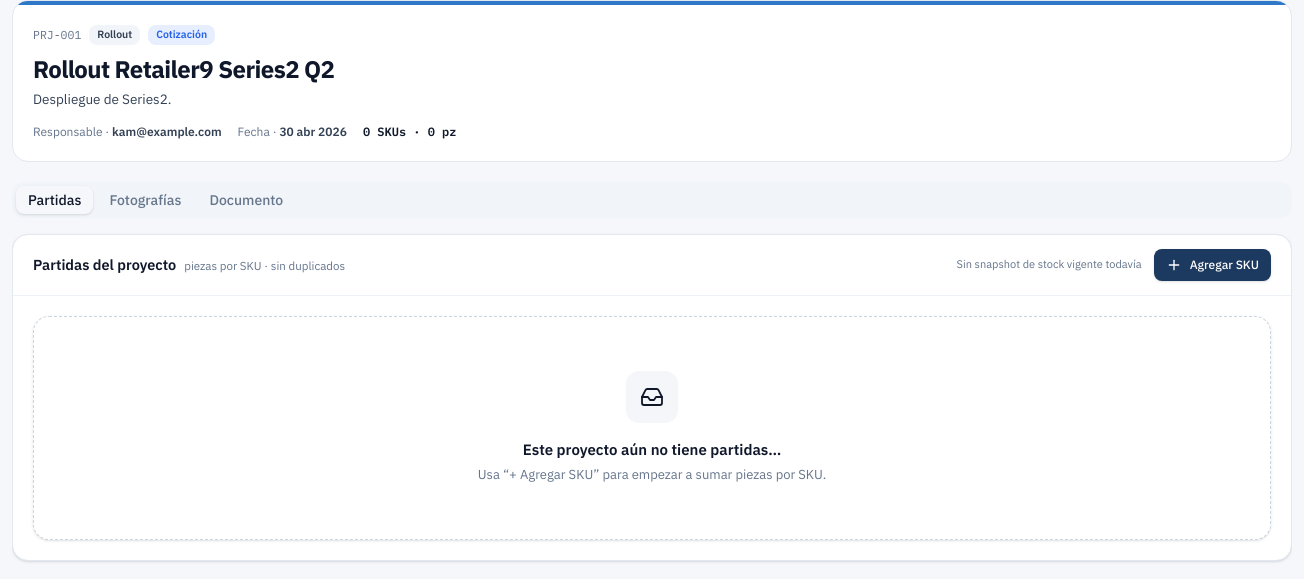
Test: los barridos de a11y también sobre los otros TRES estados del panel de Documento › con `EstadoError` (el fetch del documento falló en la primera carga)
Press the mouse on the tab "Documento": (246, 200) top-left (197, 186), bottom-right (295, 214)
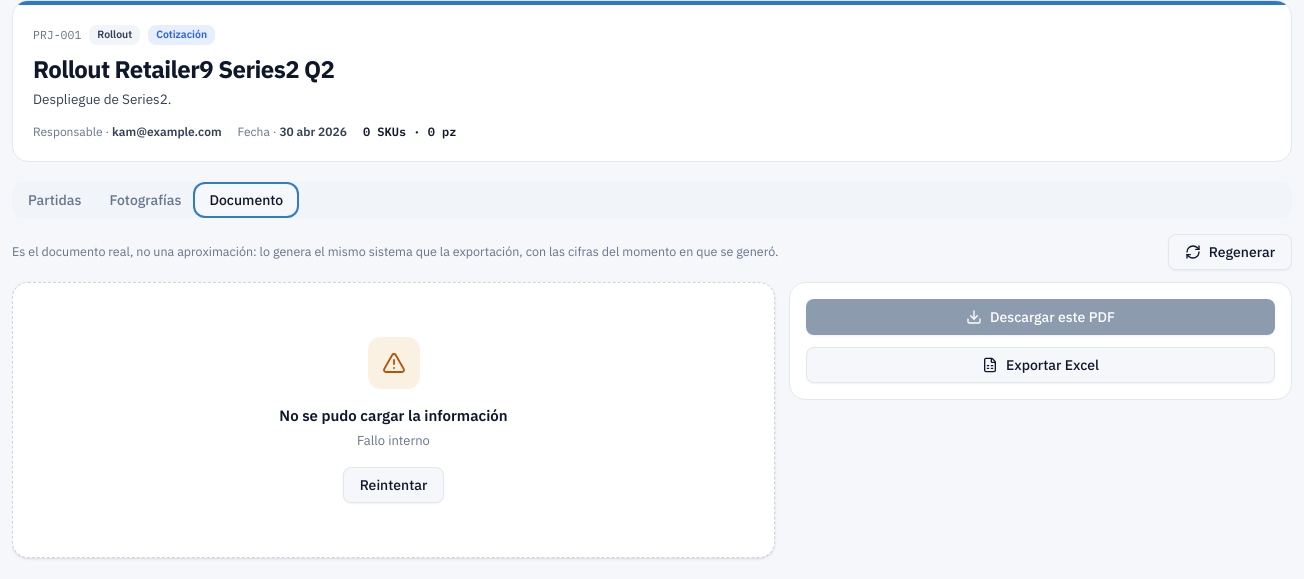
Expected: the text "Fallo interno" is shown, top-left (357, 432), bottom-right (430, 449)
